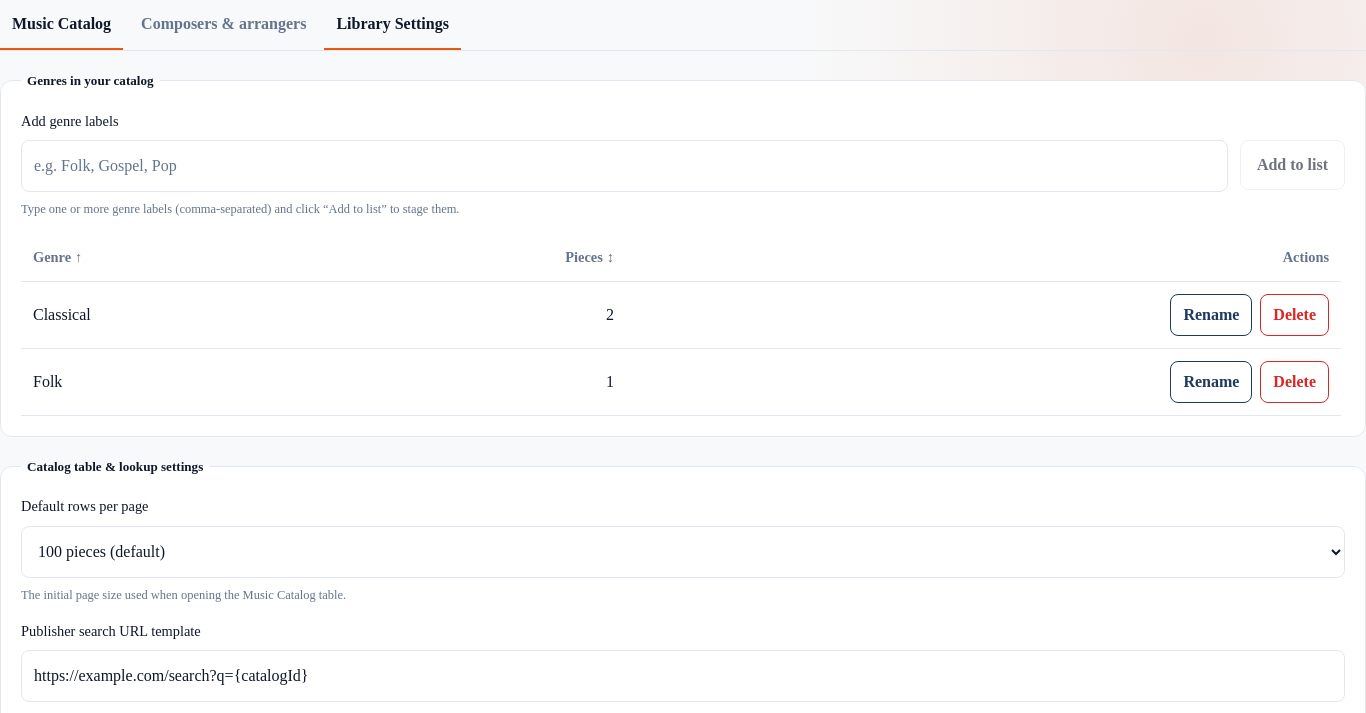
MusicLibrarySettingsPage genre management with DataTable & batch add › deletes a saved genre with confirmation
Click the button with aria-label "Delete Folk genre" at (1295, 382), box [1260,361,1329,403]
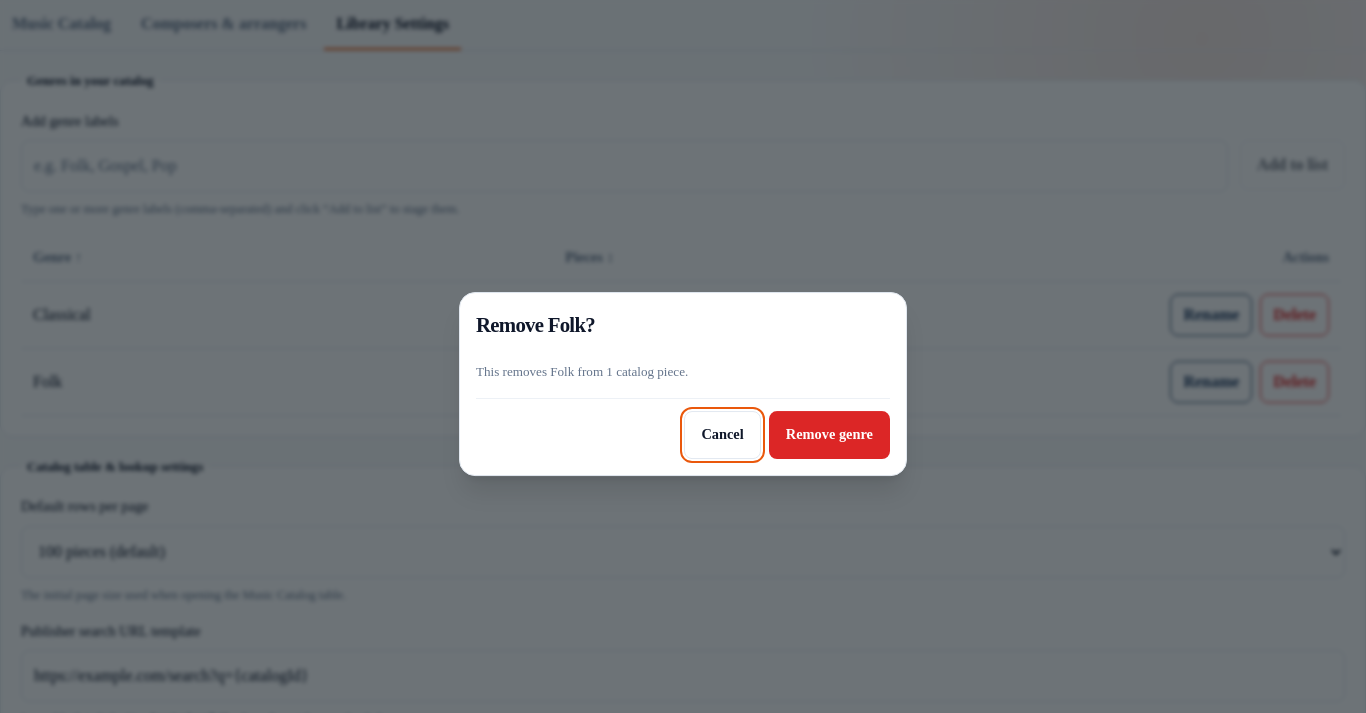
expect the heading "Remove Folk?" is shown: met, box [476,309,595,340]
Click the button "Remove genre" at (829, 435), box [769,411,890,459]
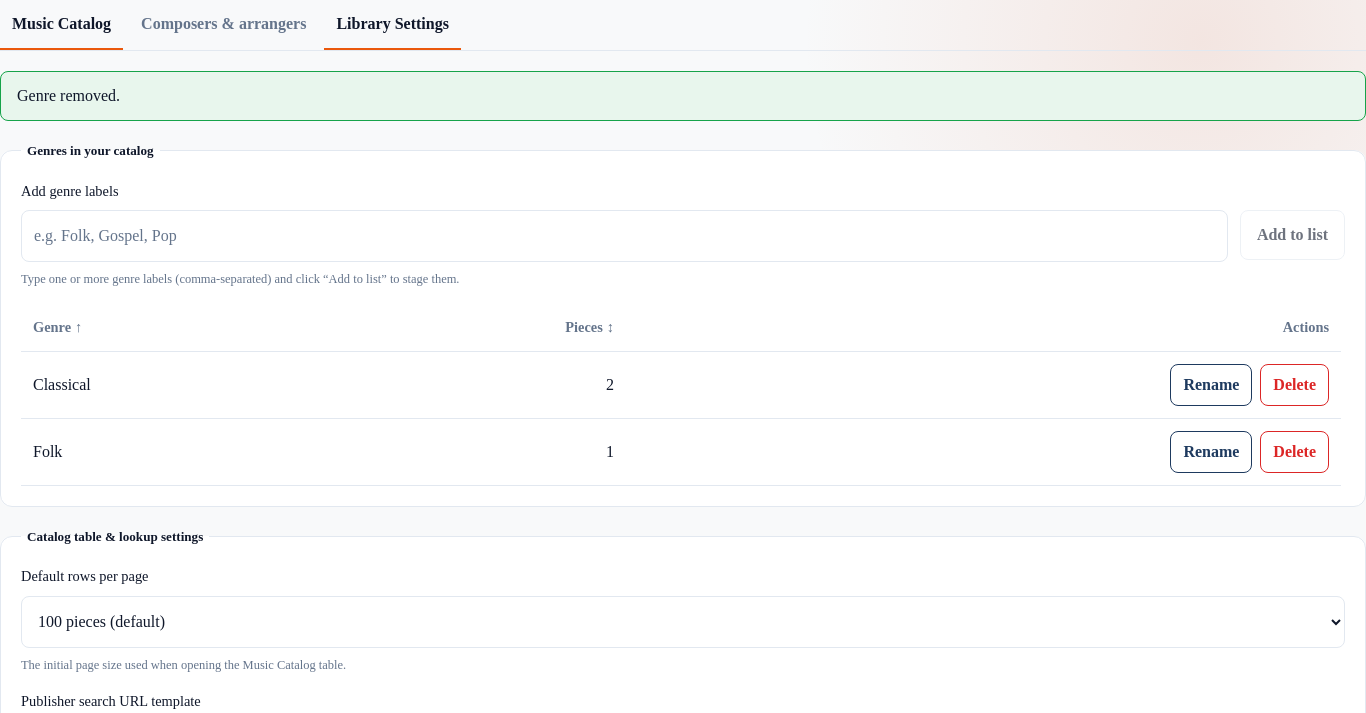
expect the text "Genre removed." is shown: met, box [0,71,1365,121]
